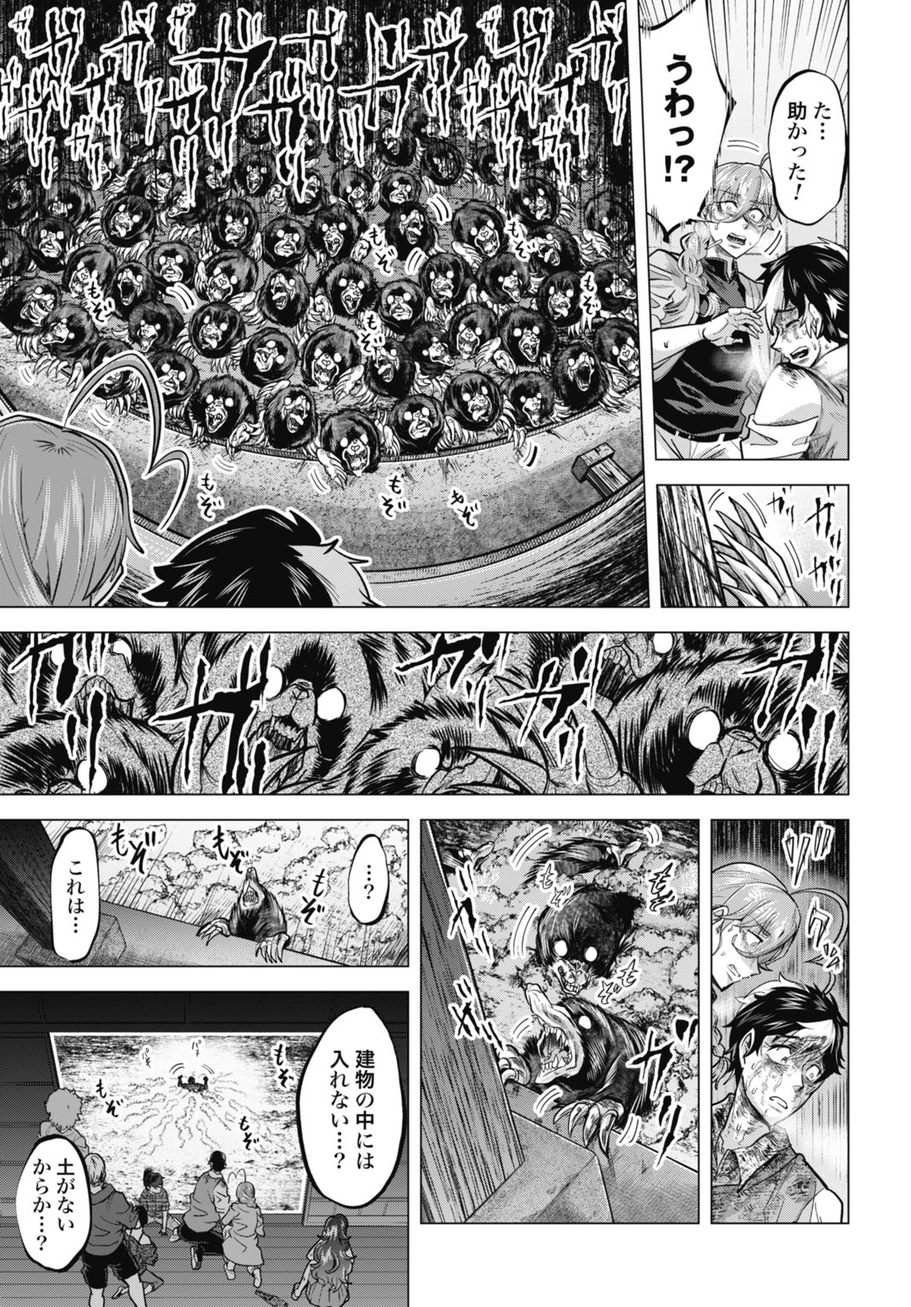bubbles: (290, 1004, 405, 1223), (644, 1, 731, 246), (765, 66, 846, 230), (10, 1129, 97, 1281), (45, 825, 117, 964), (344, 830, 393, 939)
